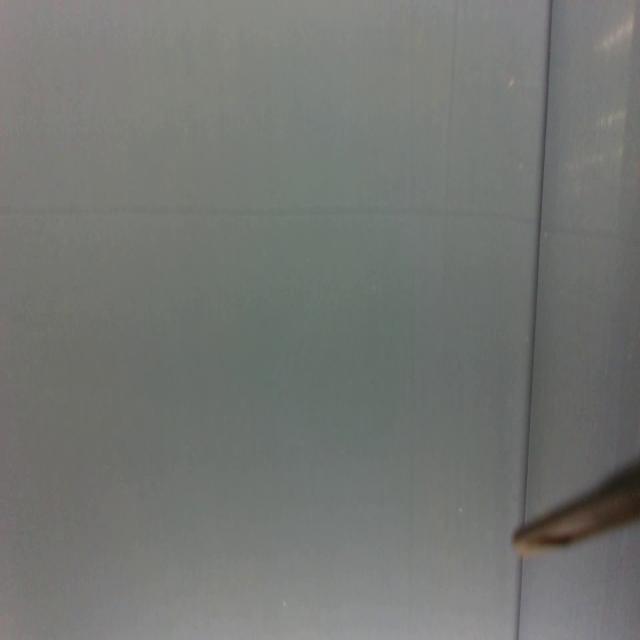color bleeding: (0, 199, 640, 250)
crease: (524, 1, 553, 511), (515, 559, 523, 640)
